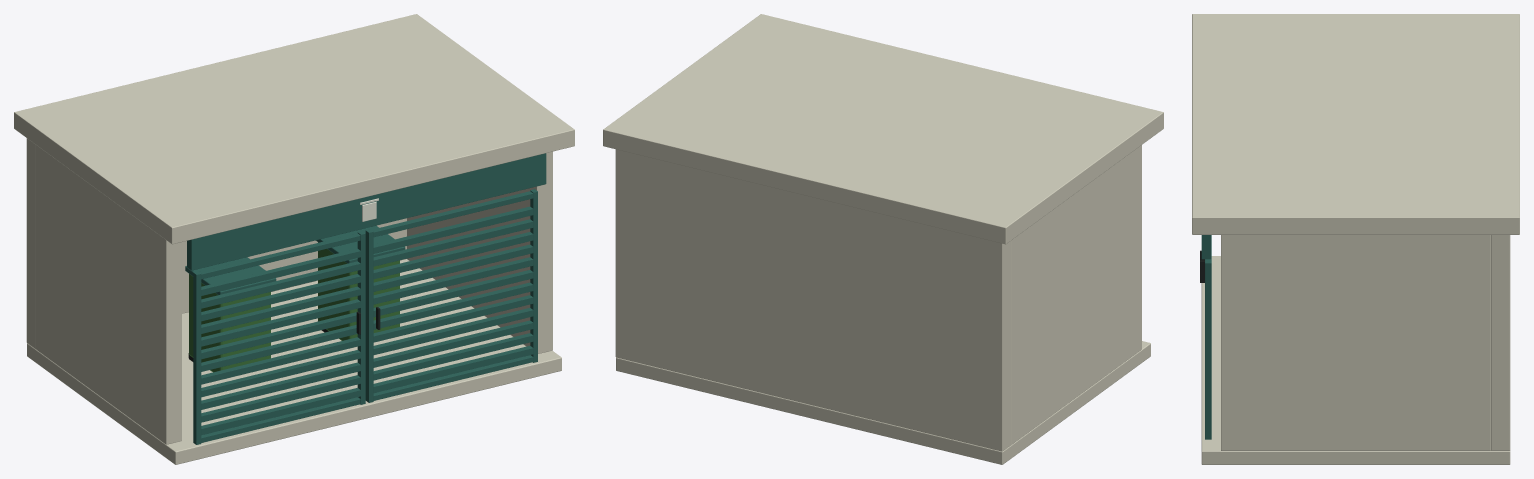
File: hdb-bin-centre.glb
The picture shows the model from 3 angles, left to right: view 1: azimuth 30°, elevation 25°; view 2: azimuth 150°, elevation 25°; view 3: azimuth 270°, elevation 25°; orthographic projection. The views are drawn at different scales.
Visible parts, largest first — view 1: ROOF_Removable, SIDE_Wall_-1, BASE, FASCIA, SIDE_Wall_1, REAR_Wall, BIN_Body_-1, BIN_Body_1, LOUVER_1_10, LOUVER_1_1, LOUVER_1_11, LOUVER_1_4 (+30 smaller); view 2: REAR_Wall, ROOF_Removable, SIDE_Wall_-1, BASE; view 3: ROOF_Removable, SIDE_Wall_1, BASE, REAR_Wall, DOOR_Frame_1_2.09.
Part boxes in pixels (left/top/right/bottom): ROOF_Removable: left=14, top=14, right=574, bottom=244; SIDE_Wall_-1: left=36, top=145, right=181, bottom=444; BASE: left=27, top=259, right=561, bottom=464; FASCIA: left=187, top=153, right=546, bottom=270; SIDE_Wall_1: left=407, top=151, right=552, bottom=353; REAR_Wall: left=26, top=138, right=406, bottom=348; BIN_Body_-1: left=189, top=274, right=270, bottom=372; BIN_Body_1: left=318, top=242, right=399, bottom=340; LOUVER_1_10: left=373, top=219, right=533, bottom=266; LOUVER_1_1: left=373, top=333, right=533, bottom=380; LOUVER_1_11: left=373, top=206, right=533, bottom=253; LOUVER_1_4: left=373, top=295, right=533, bottom=342; REAR_Wall: left=615, top=149, right=1011, bottom=451; ROOF_Removable: left=603, top=14, right=1163, bottom=244; SIDE_Wall_-1: left=1011, top=145, right=1141, bottom=444; BASE: left=616, top=341, right=1150, bottom=464; ROOF_Removable: left=1192, top=14, right=1519, bottom=234; SIDE_Wall_1: left=1221, top=235, right=1490, bottom=450; BASE: left=1201, top=256, right=1510, bottom=464; REAR_Wall: left=1491, top=235, right=1510, bottom=450; DOOR_Frame_1_2.09: left=1205, top=261, right=1211, bottom=439.
Size of the model in its own units: 5 by 2.88 by 3.4.
